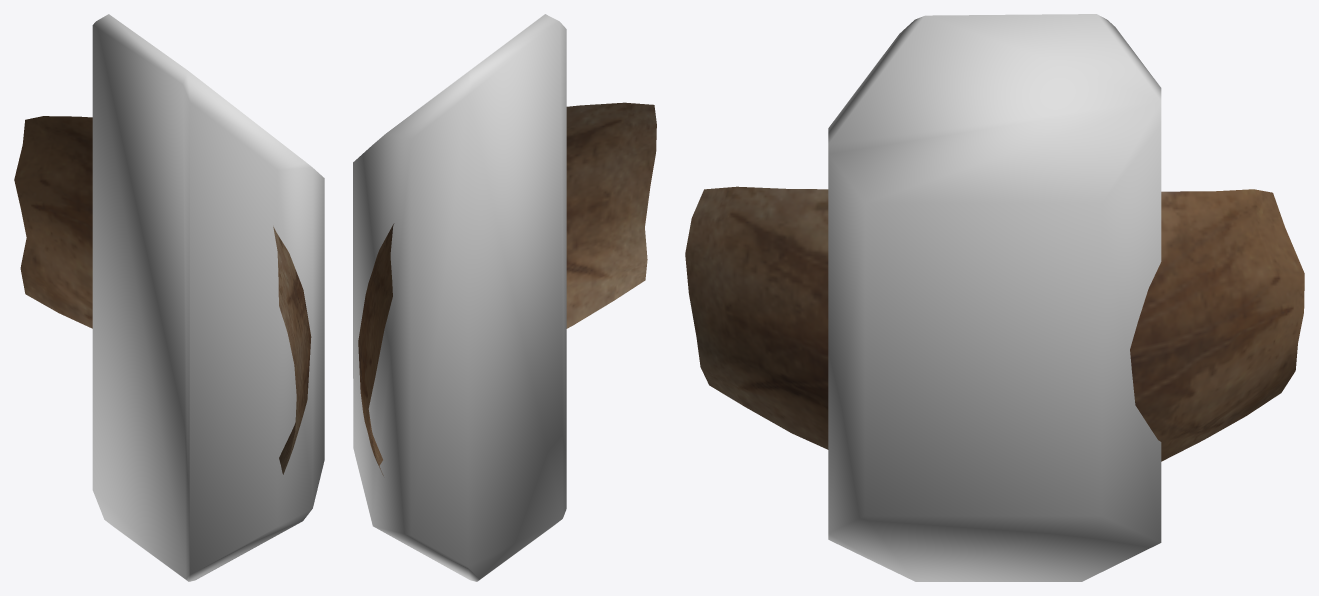
File: SM_Coir_Bent__Plane_022.fbx
The picture shows the model from 3 angles, left to right: view 1: azimuth 30°, elevation 25°; view 2: azimuth 150°, elevation 25°; view 3: azimuth 270°, elevation 25°; orthographic projection. The views are drawn at different scales.
Visible parts, largest first — view 1: SM_Coir_Bent__Plane_022_ConvexHulls, SM_Coir_Bent__Plane_022; view 2: SM_Coir_Bent__Plane_022_ConvexHulls, SM_Coir_Bent__Plane_022; view 3: SM_Coir_Bent__Plane_022_ConvexHulls, SM_Coir_Bent__Plane_022.
Boxes of the visible parts, <box> form: SM_Coir_Bent__Plane_022_ConvexHulls: <box>92,14,324,581</box>; SM_Coir_Bent__Plane_022: <box>14,116,311,474</box>; SM_Coir_Bent__Plane_022_ConvexHulls: <box>353,14,566,581</box>; SM_Coir_Bent__Plane_022: <box>358,102,656,475</box>; SM_Coir_Bent__Plane_022_ConvexHulls: <box>828,14,1161,581</box>; SM_Coir_Bent__Plane_022: <box>685,186,1304,461</box>.
Bounding box in the file's own units: 0.0869 × 0.3527 × 0.3505.
